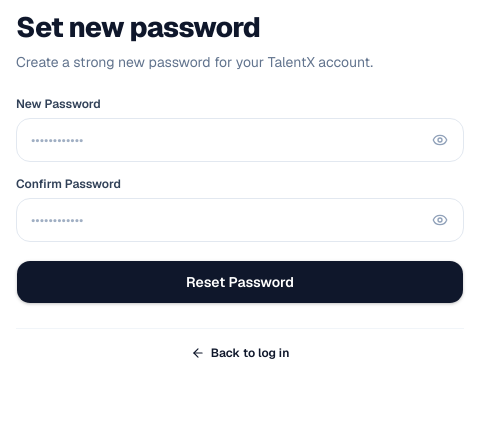
ResetPasswordForm › shows validation error when password does not meet complexity requirements
Type "lowercaseonly123" into the password field labelled "New Password" at (240, 140), box [16, 118, 464, 162]
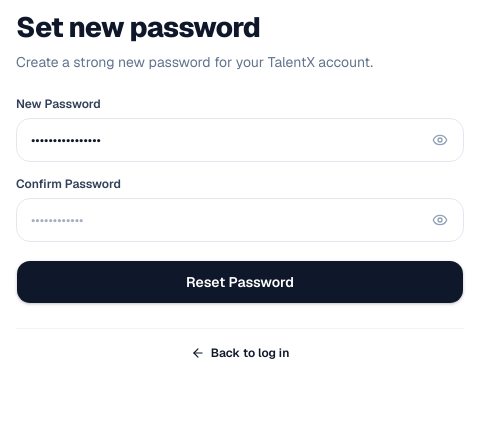
Type "lowercaseonly123" into the password field labelled "Confirm Password" at (240, 220), box [16, 198, 464, 242]
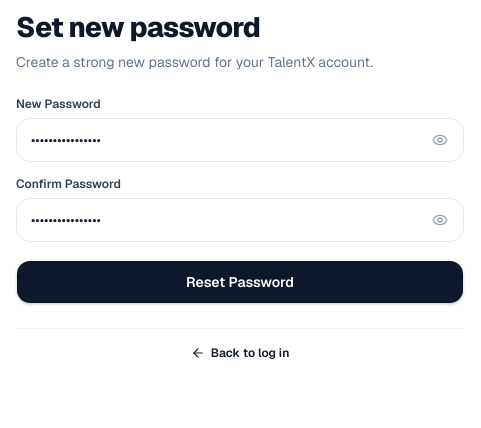
Click the button "Reset Password" at (240, 282), box [16, 260, 464, 304]
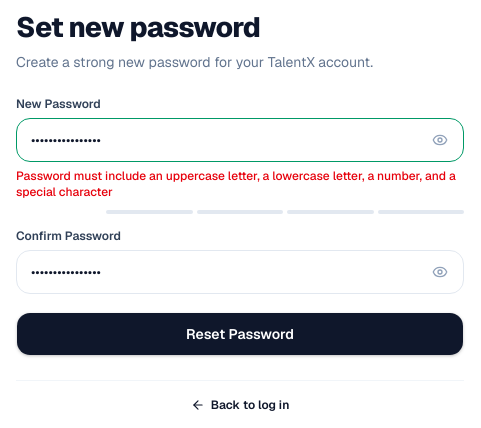
Expected: the text "Password must include an uppercase letter, a lowercase letter, a number, and a special character" is shown, [16, 168, 456, 200]
